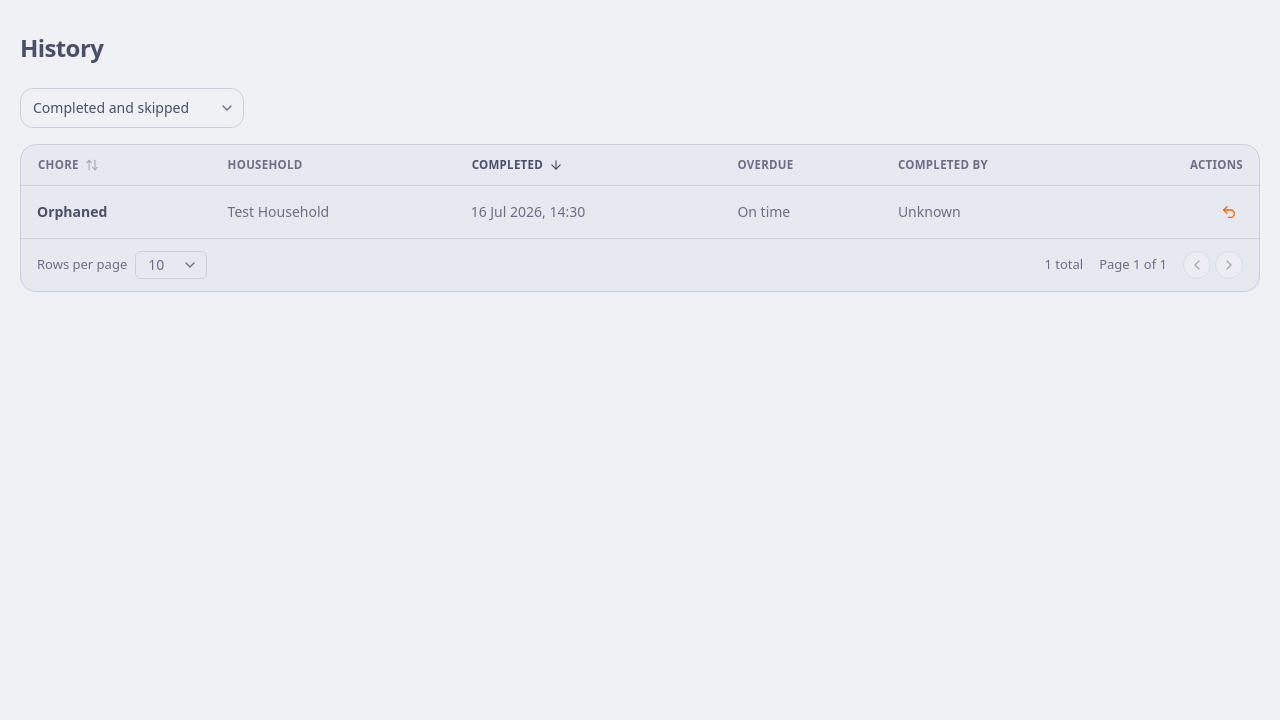
History › treats a closure with no known completer as somebody else’s
The width and height of the screenshot is (1280, 720).
What coordinates should you click on to do the following:
click the button named "Undo somebody else's entry"
I would click on:
 (1229, 212)
Its box is [1215,198,1243,226].
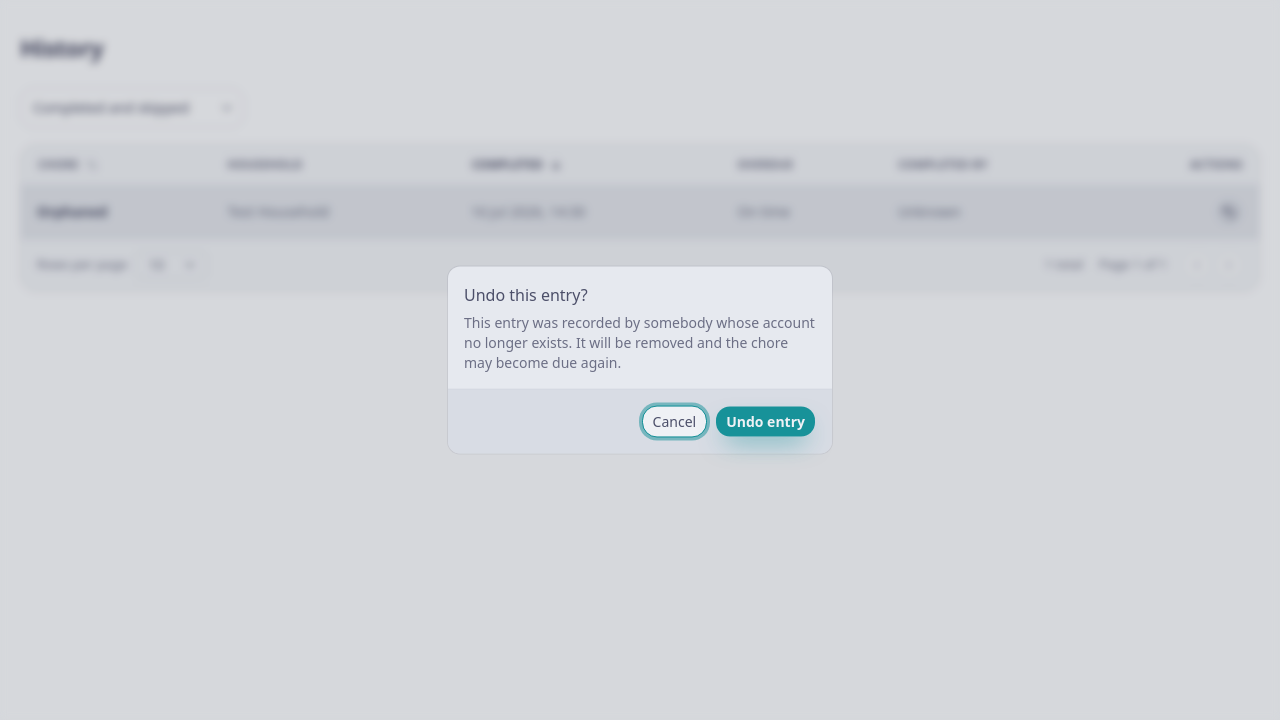
Expected: the text "account no longer exists" is shown, [464,312,815,372]
